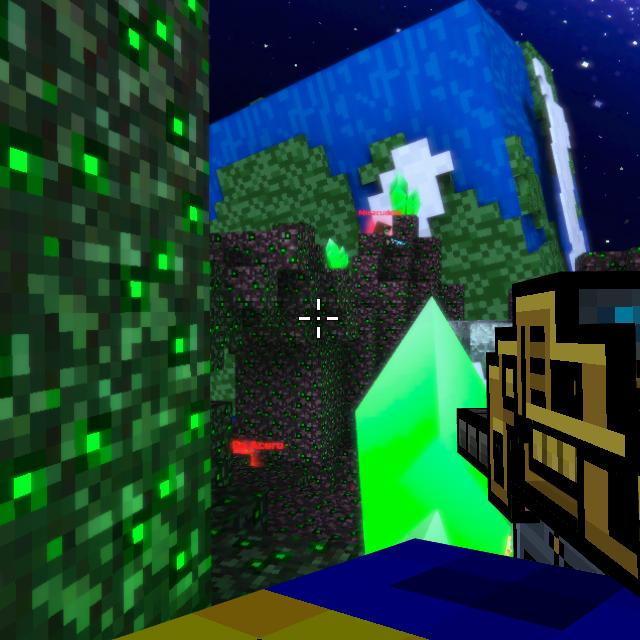Enemy: (371, 222, 392, 250), (234, 452, 254, 469)
